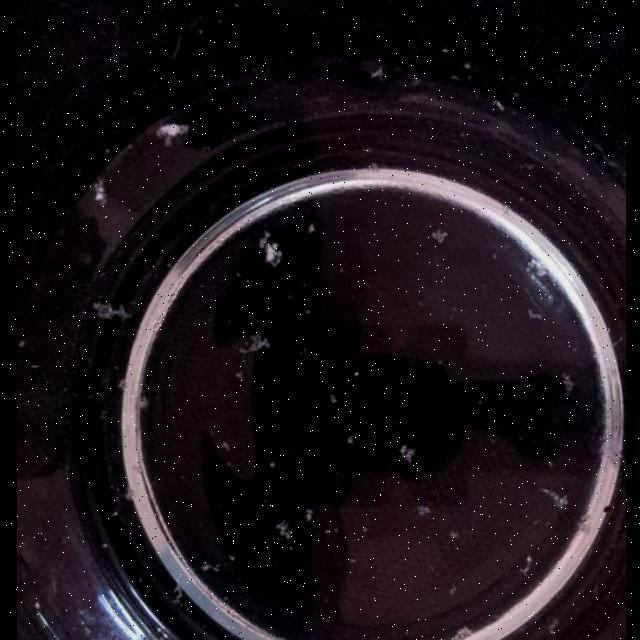Fibre: (90, 300, 128, 322), (236, 332, 270, 354), (537, 487, 567, 509), (258, 237, 280, 267), (90, 178, 106, 204), (273, 519, 291, 539), (414, 504, 430, 518), (199, 562, 219, 572), (526, 309, 540, 321), (114, 378, 124, 392)
microbeads: (429, 230, 446, 244), (368, 66, 382, 80), (446, 584, 456, 596), (232, 372, 242, 382), (326, 394, 336, 404), (220, 442, 230, 452), (448, 529, 458, 539), (366, 162, 376, 172), (306, 222, 314, 234), (345, 435, 353, 445), (320, 528, 330, 536), (448, 74, 458, 82), (302, 308, 310, 316), (227, 554, 235, 562), (461, 62, 469, 70), (439, 46, 447, 54), (347, 556, 355, 564), (266, 462, 274, 468), (358, 526, 366, 532), (102, 148, 110, 154), (99, 543, 107, 549)
